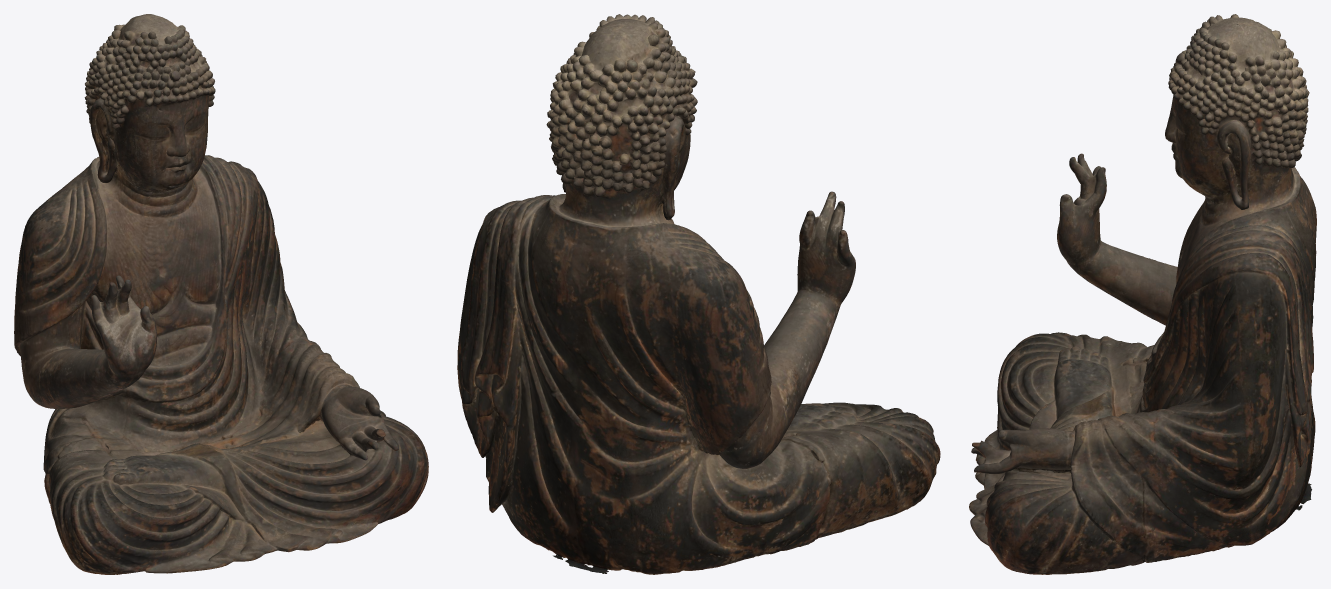
File: shakyamuni-preview.glb
3 renders of one model, left to right at view 1: azimuth 30°, elevation 25°; view 2: azimuth 150°, elevation 25°; view 3: azimuth 270°, elevation 25°, orthographic. The views are drawn at different scales.
Parts seen in each view (by area): view 1: Object_2, Object_3; view 2: Object_2, Object_3; view 3: Object_2, Object_3.
Boxes of the visible parts, x1=… form: Object_2: x1=14, y1=14, x2=428, y2=574; Object_3: x1=16, y1=16, x2=427, y2=573; Object_2: x1=457, y1=14, x2=940, y2=554; Object_3: x1=458, y1=18, x2=938, y2=574; Object_2: x1=969, y1=15, x2=1316, y2=574; Object_3: x1=971, y1=14, x2=1315, y2=574.
Size of the model in its own units: 0.4693 by 0.5745 by 0.3834.
1 material, 1 textured.
